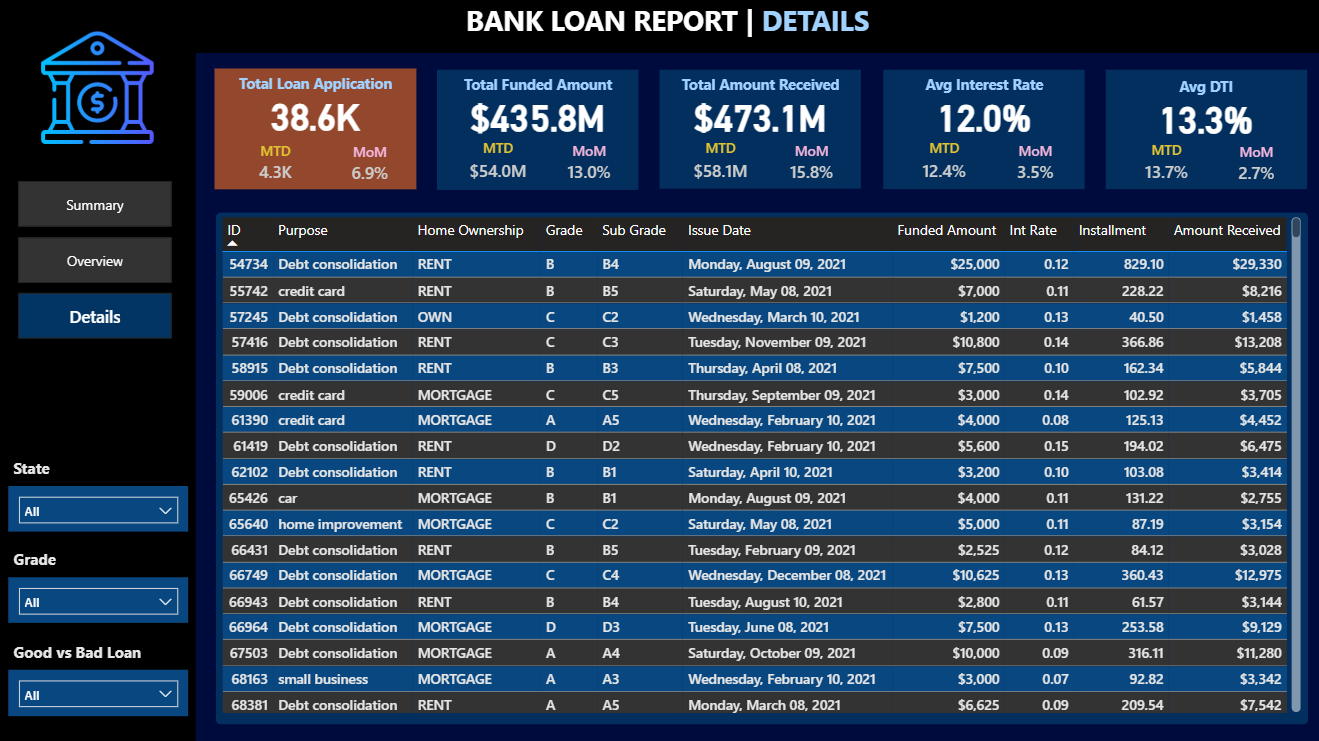

This screenshot's page, from the dashboard's own definition file:
{"tool":"powerbi","page":{"name":"Details","canvas":[1280,720],"ordinal":3},"visuals":[{"type":"shape","box":[629.2,66.4,193.8,114.2],"z":0,"group":"g3"},{"type":"shape","box":[214.3,68.6,194.3,114.3],"z":0,"group":"g1"},{"type":"shape","box":[421.4,68.6,194.5,114],"z":0,"group":"g2"},{"type":"shape","box":[848.8,68.6,194.2,114.3],"z":0,"group":"g4"},{"type":"shape","box":[1059.3,69.8,194.5,113.1],"z":0,"group":"g5"},{"type":"shape","box":[214.7,203.7,1041.9,506.5],"z":0},{"type":"shape","box":[0,0,1257,54.7],"z":1000},{"type":"card","fields":{"Values":["table_measures.total_loan_appl"]},"box":[247.2,83.2,124.3,61.3],"z":1000,"group":"g1"},{"type":"card","fields":{"Values":["table_measures.total_funded_amt"]},"box":[433.2,83.2,165.9,58.4],"z":1000,"group":"g2"},{"type":"card","fields":{"Values":["table_measures.avg_interest_rate"]},"box":[860.6,83.2,165.6,58.6],"z":1000,"group":"g4"},{"type":"card","fields":{"Values":["table_measures.avg_DTI"]},"box":[1071.1,84.3,165.9,57.9],"z":1000,"group":"g5"},{"type":"card","fields":{"Values":["table_measures.total_received_amt"]},"box":[643.2,85.3,163.1,55.8],"z":1000,"group":"g3"},{"type":"shape","box":[0,54.7,191.9,655.8],"z":2000},{"type":"textbox","box":[632.2,67,191,41.6],"z":2000,"group":"g3"},{"type":"textbox","box":[214.3,68.6,194.3,39],"z":2000,"group":"g1"},{"type":"textbox","box":[421.4,68.6,194.5,38.9],"z":2000,"group":"g2"},{"type":"textbox","box":[848.8,68.6,194.2,39],"z":2000,"group":"g4"},{"type":"textbox","box":[1059.3,69.8,194.5,38.6],"z":2000,"group":"g5"},{"type":"card","title":"MTD","fields":{"Values":["table_measures.MTD_loan_appl"]},"box":[235.7,132.7,51.4,50.2],"z":3000,"group":"g1"},{"type":"card","title":"MTD","fields":{"Values":["table_measures.MTD_received_amt"]},"box":[643.2,137.1,68.9,46.5],"z":3000,"group":"g3"},{"type":"card","title":"MTD","fields":{"Values":["table_measures.MTD_funded_amt"]},"box":[433.2,137.4,70.1,48.6],"z":3000,"group":"g2"},{"type":"card","title":"MTD","fields":{"Values":["table_measures.MTD_interest_rate"]},"box":[860.6,137.6,70,48.8],"z":3000,"group":"g4"},{"type":"card","title":"MTD","fields":{"Values":["table_measures.MTD_avg_DTI"]},"box":[1071.1,138.1,70.1,48.3],"z":3000,"group":"g5"},{"type":"textbox","box":[12.4,406,119.7,38.5],"z":3000},{"type":"textbox","box":[509.2,1.4,447.3,49.5],"z":4000},{"type":"card","title":"MoM","fields":{"Values":["table_measures.MOM_loan_appl"]},"box":[320,132.7,51.4,50.2],"z":4000,"group":"g1"},{"type":"card","title":"MoM","fields":{"Values":["table_measures.MOM_received_amt"]},"box":[736.7,136.9,56.8,47.5],"z":4000,"group":"g3"},{"type":"card","title":"MoM","fields":{"Values":["table_measures.MOM_funded_amt"]},"box":[528.3,137.2,57.8,49.7],"z":4000,"group":"g2"},{"type":"card","title":"MoM","fields":{"Values":["table_measures.MOM_interest_rate"]},"box":[955.6,137.4,57.7,49.8],"z":4000,"group":"g4"},{"type":"card","title":"MoM","fields":{"Values":["table_measures.MOM_avg_DTI"]},"box":[1166.2,137.9,57.8,49.3],"z":4000,"group":"g5"},{"type":"group","id":"g1","title":"Group 1","box":[214.3,68.6,194.3,114.3],"z":5000},{"type":"group","id":"g2","title":"Group 1","box":[421.4,68.6,194.3,118],"z":6000},{"type":"group","id":"g3","title":"Group 1","box":[629.2,66.4,194,118],"z":7000},{"type":"group","id":"g4","title":"Group 1","box":[848.8,68.6,194.2,118.6],"z":8000},{"type":"group","id":"g5","title":"Group 1","box":[1059.3,69.8,194.2,117.4],"z":9000},{"type":"slicer","fields":{"Values":["financial_loan.address_state"]},"box":[5.5,425.3,180.3,50.9],"z":10000},{"type":"slicer","fields":{"Values":["financial_loan.grade"]},"box":[5.5,514.8,180.3,50.9],"z":11000},{"type":"textbox","box":[12.4,491.4,119.7,38.5],"z":12000},{"type":"slicer","fields":{"Values":["financial_loan.Good vs Band Loan"]},"box":[5.5,607,180.3,50.9],"z":13000},{"type":"textbox","box":[12.4,583.6,163.8,38.5],"z":14000},{"type":"tableEx","fields":{"Values":["financial_loan.id","financial_loan.purpose","financial_loan.home_ownership","financial_loan.grade","financial_loan.sub_grade","financial_loan.issue_date","table_measures.total_funded_amt","Sum(financial_loan.int_rate)","Sum(financial_loan.installment)","table_measures.total_received_amt"]},"box":[214.7,203.7,1041.9,506.5],"z":15000},{"type":"pageNavigator","box":[8.3,196.8,178.9,163.8],"z":16000},{"type":"image","box":[0,1.4,187.2,156.9],"z":17000}]}

Visuals, with their boxes in screenshot pixels (x1, y1, x2, y2), scaled from the page's 1280x720 canvas onto the 1319x741 screenshot:
shape: <box>648,68,848,186</box>
shape: <box>221,71,421,188</box>
shape: <box>434,71,635,188</box>
shape: <box>875,71,1075,188</box>
shape: <box>1092,72,1292,188</box>
shape: <box>221,210,1295,731</box>
shape: <box>0,0,1295,56</box>
card - table_measures.total_loan_appl: <box>255,86,383,149</box>
card - table_measures.total_funded_amt: <box>446,86,617,146</box>
card - table_measures.avg_interest_rate: <box>887,86,1057,146</box>
card - table_measures.avg_DTI: <box>1104,87,1275,146</box>
card - table_measures.total_received_amt: <box>663,88,831,145</box>
shape: <box>0,56,198,731</box>
textbox: <box>651,69,848,112</box>
textbox: <box>221,71,421,111</box>
textbox: <box>434,71,635,111</box>
textbox: <box>875,71,1075,111</box>
textbox: <box>1092,72,1292,112</box>
"MTD" card: <box>243,137,296,188</box>
"MTD" card: <box>663,141,734,189</box>
"MTD" card: <box>446,141,519,191</box>
"MTD" card: <box>887,142,959,192</box>
"MTD" card: <box>1104,142,1176,192</box>
textbox: <box>13,418,136,457</box>
textbox: <box>525,1,986,52</box>
"MoM" card: <box>330,137,383,188</box>
"MoM" card: <box>759,141,818,190</box>
"MoM" card: <box>544,141,604,192</box>
"MoM" card: <box>985,141,1044,193</box>
"MoM" card: <box>1202,142,1261,193</box>
"Group 1" group: <box>221,71,421,188</box>
"Group 1" group: <box>434,71,634,192</box>
"Group 1" group: <box>648,68,848,190</box>
"Group 1" group: <box>875,71,1075,193</box>
"Group 1" group: <box>1092,72,1292,193</box>
slicer - financial_loan.address_state: <box>6,438,191,490</box>
slicer - financial_loan.grade: <box>6,530,191,582</box>
textbox: <box>13,506,136,545</box>
slicer - financial_loan.Good vs Band Loan: <box>6,625,191,677</box>
textbox: <box>13,601,182,640</box>
tableEx - financial_loan.id x financial_loan.purpose: <box>221,210,1295,731</box>
pageNavigator: <box>9,203,193,371</box>
image: <box>0,1,193,163</box>
